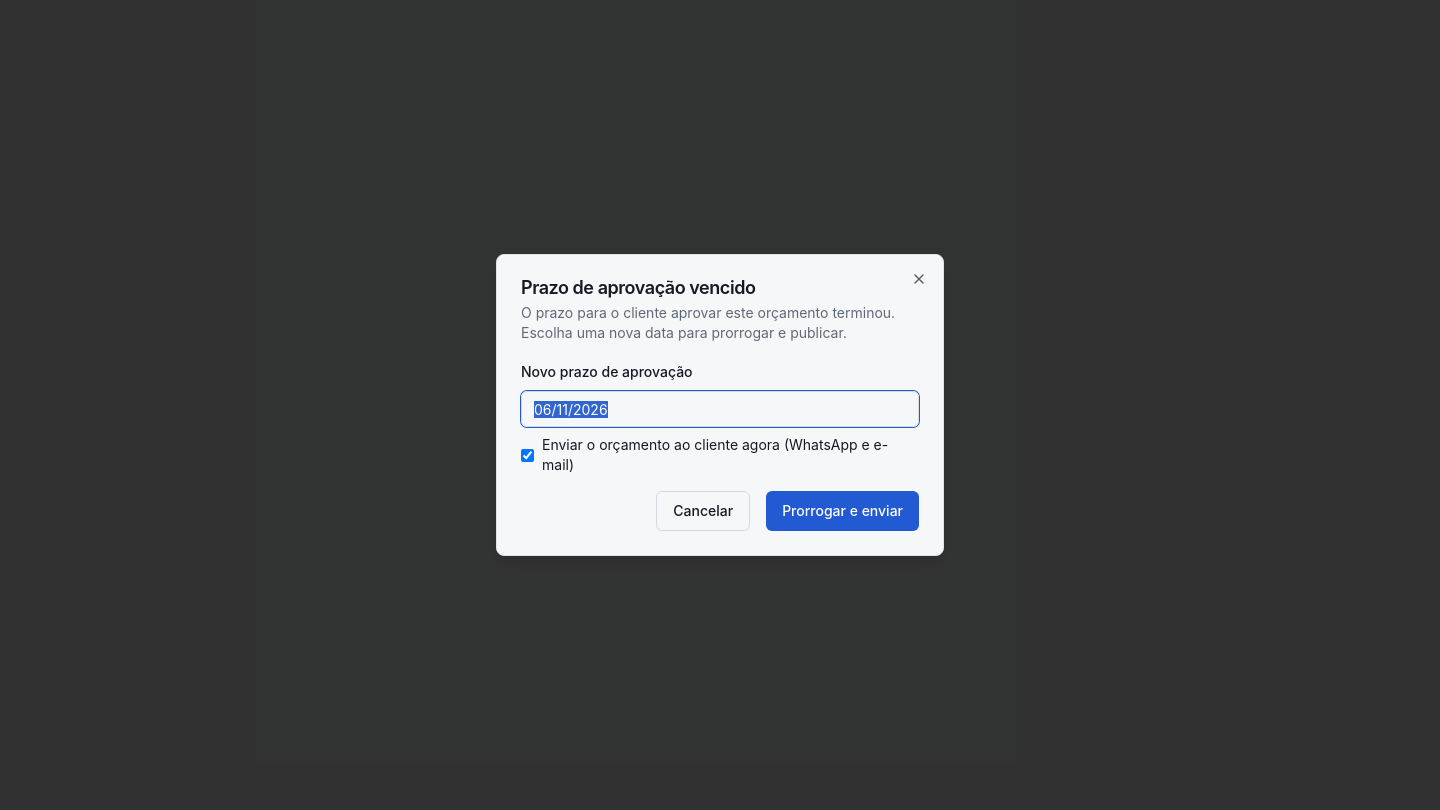
Test: ProrrogarPrazoDialog › avisa quando prorrogou mas a publicação falhou
Replace the text in the field labelled "Novo prazo de aprovação" with "2099-03-15": (720, 409) left=521, top=391, right=919, bottom=427
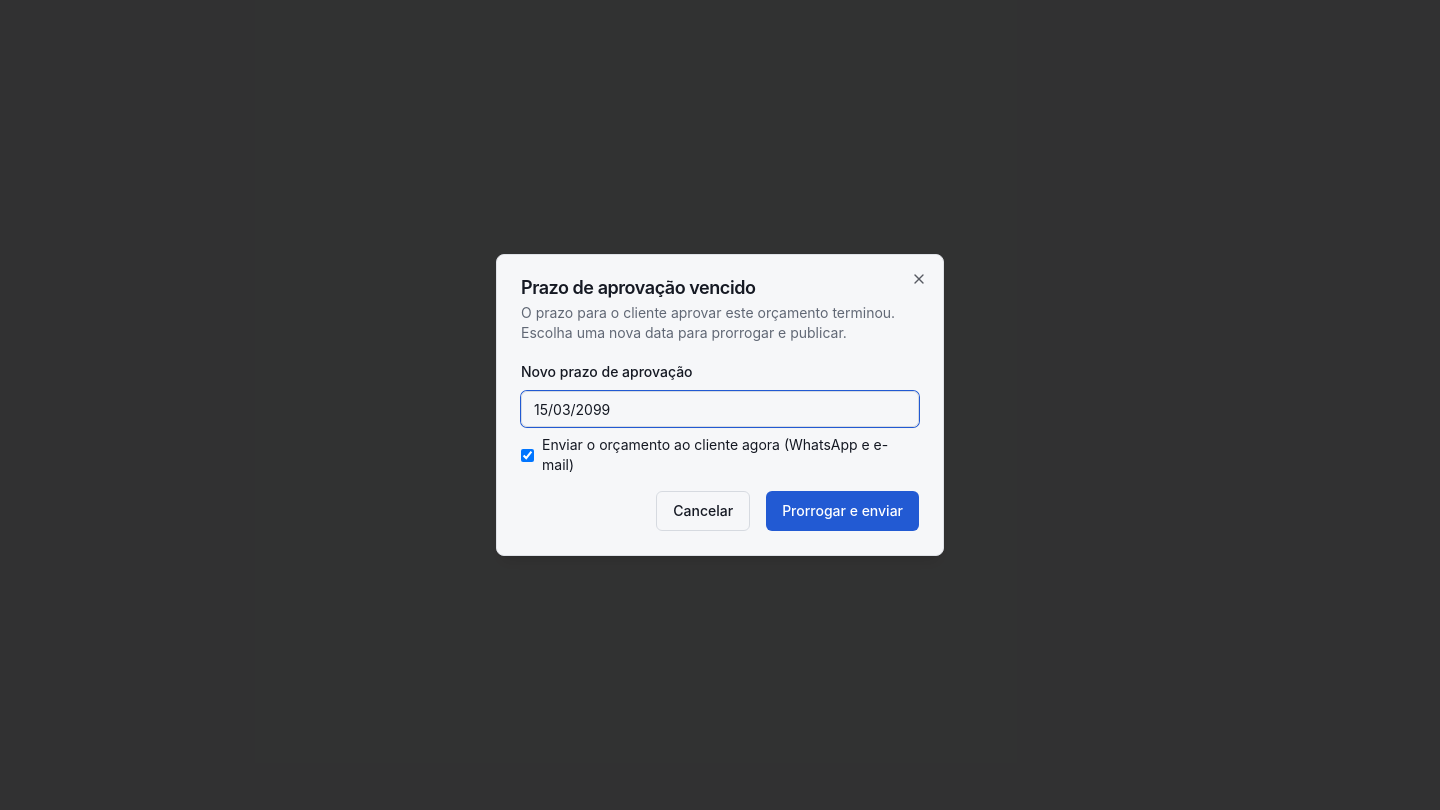
Click the checkbox labelled "Enviar o orçamento ao cliente agora (WhatsApp e e-mail)": (528, 455) left=521, top=448, right=534, bottom=462
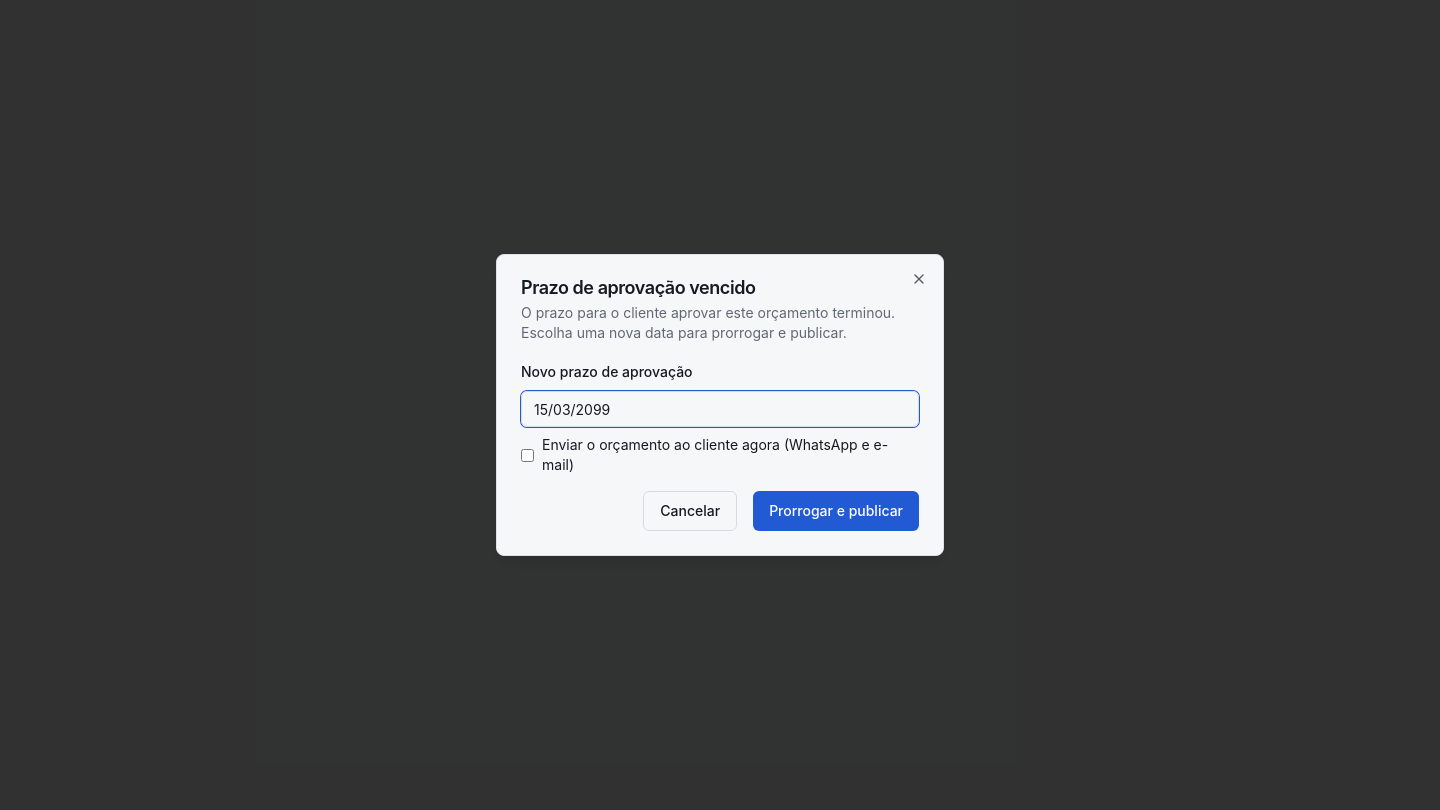
Click the button "Prorrogar e publicar": (836, 511) left=753, top=491, right=919, bottom=531
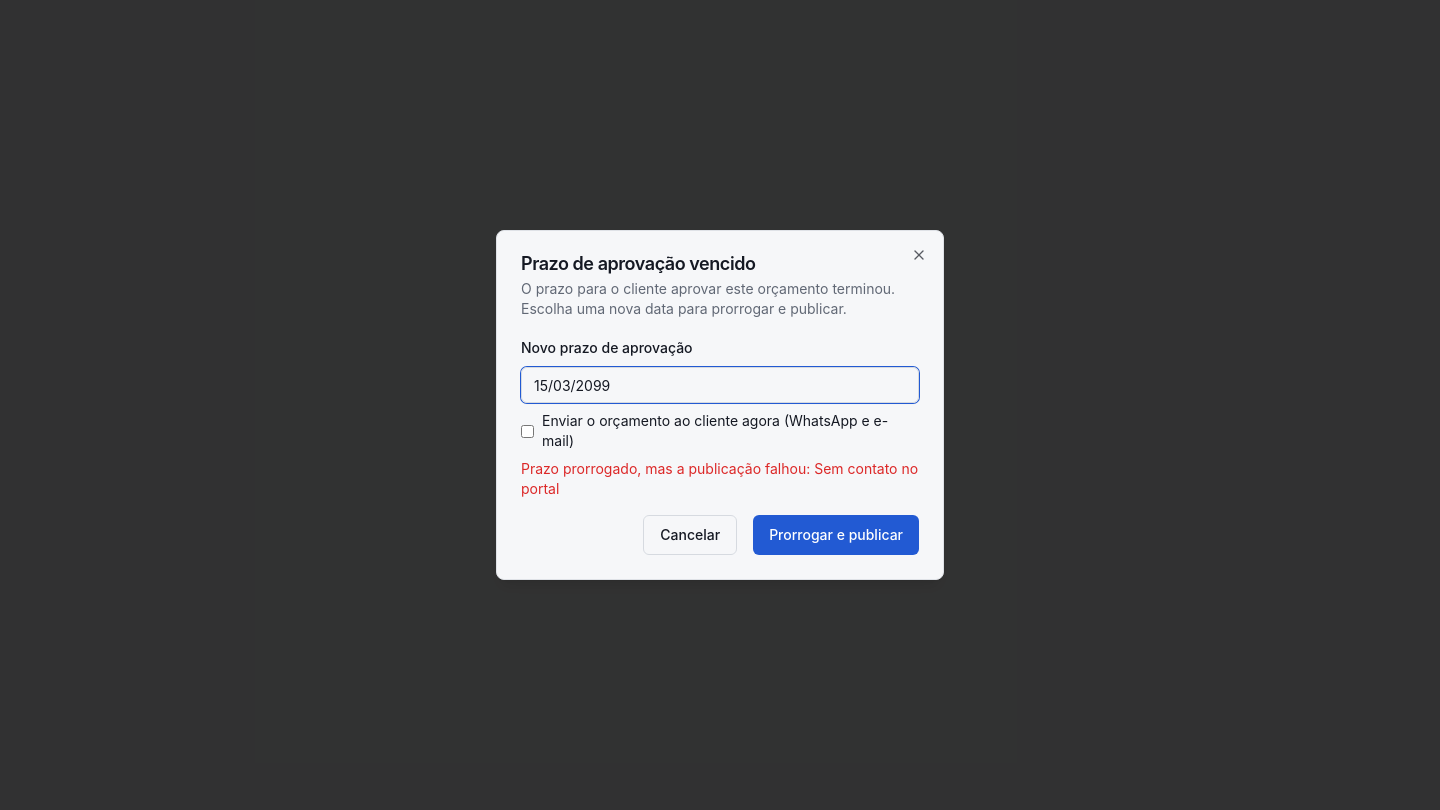
Check: the message reads "Prazo prorrogado, mas a publicação falhou: Sem contato no portal", box left=521, top=460, right=918, bottom=497
